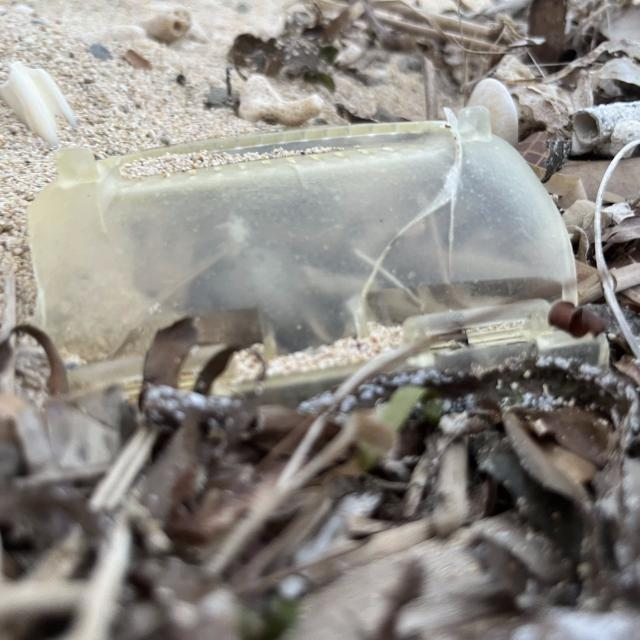coral: (227, 67, 325, 132)
seaweed: (5, 398, 640, 640)
shell: (1, 58, 82, 152)
trash: (33, 116, 619, 392)
